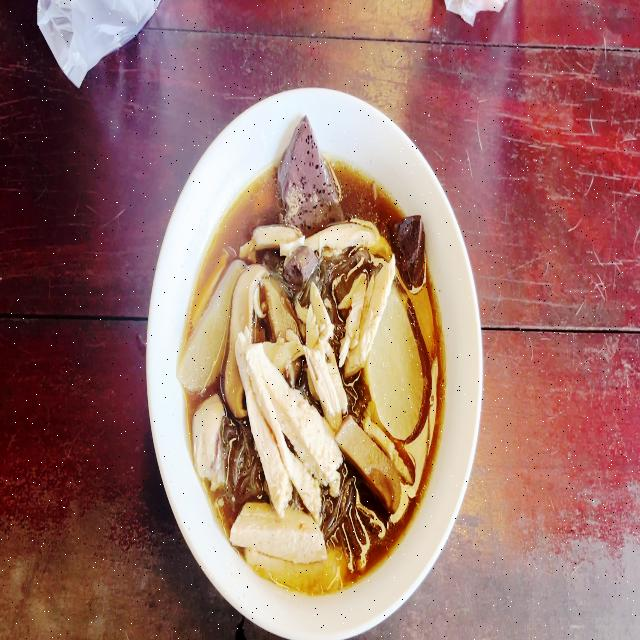boiled_chicken_blood_jelly: (273, 128, 343, 219), (388, 215, 428, 280), (287, 243, 322, 296)
chicken_shredded: (238, 333, 338, 517), (233, 498, 347, 591), (334, 254, 396, 372), (243, 218, 387, 249), (312, 282, 344, 415), (191, 402, 221, 476)
daikon_radish: (375, 304, 429, 442), (180, 254, 236, 380)
noodle: (185, 154, 446, 589)
